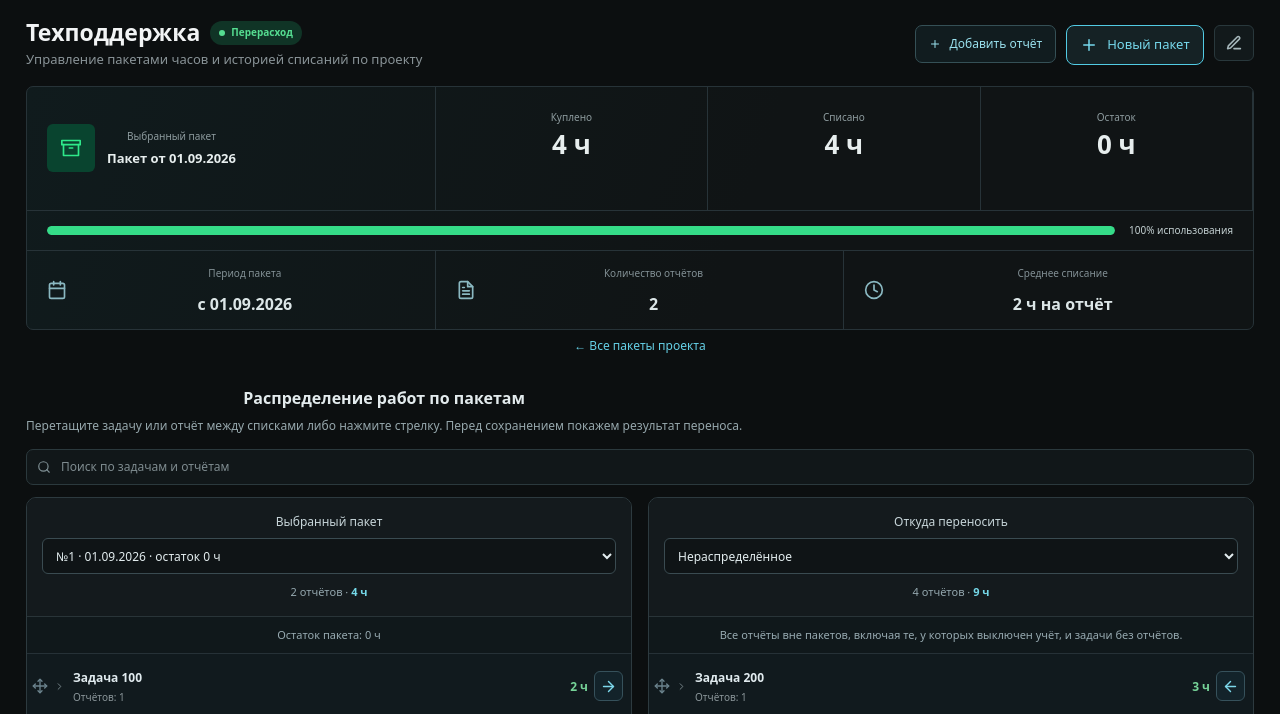
two-list allocation workspace › can use another package as source without duplicating the selected package in source options
Select "№2 · 02.09.2026 · остаток -2 ч" in the dropdown named "Источник работ" at (951, 556), box [664,538,1238,574]
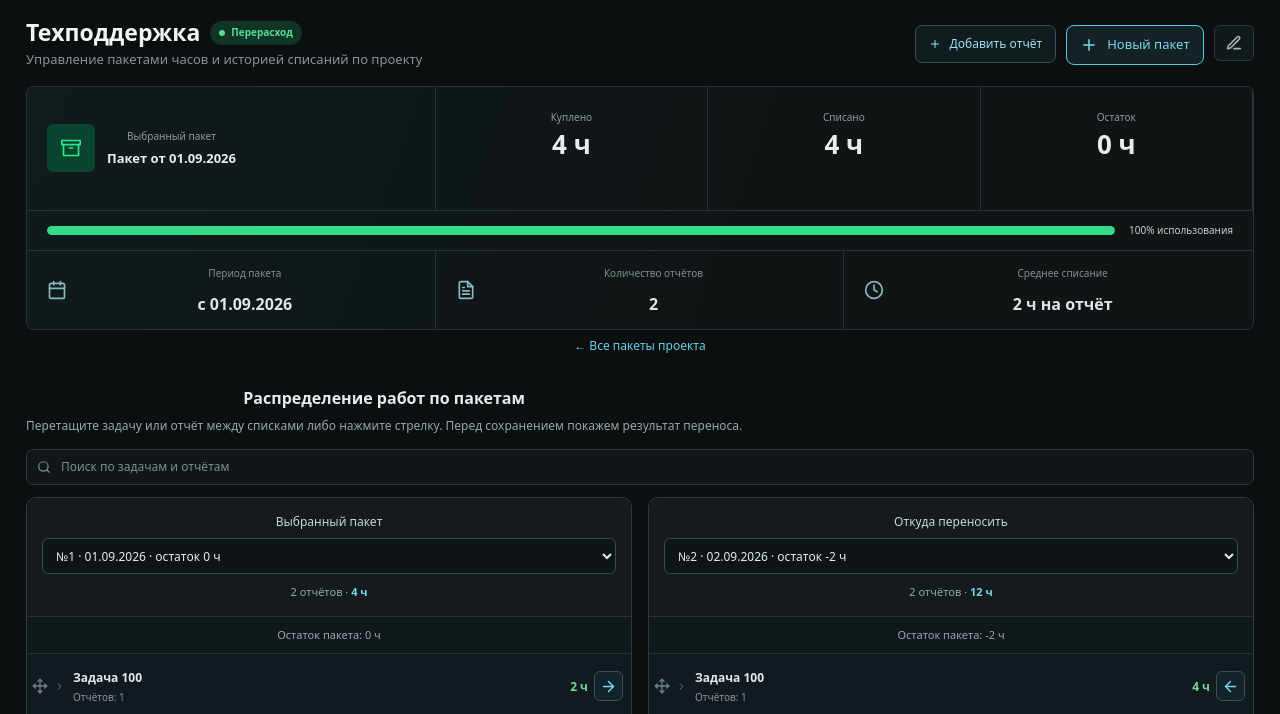
Now the text "12 ч" is shown, box [970,584,993,599]
